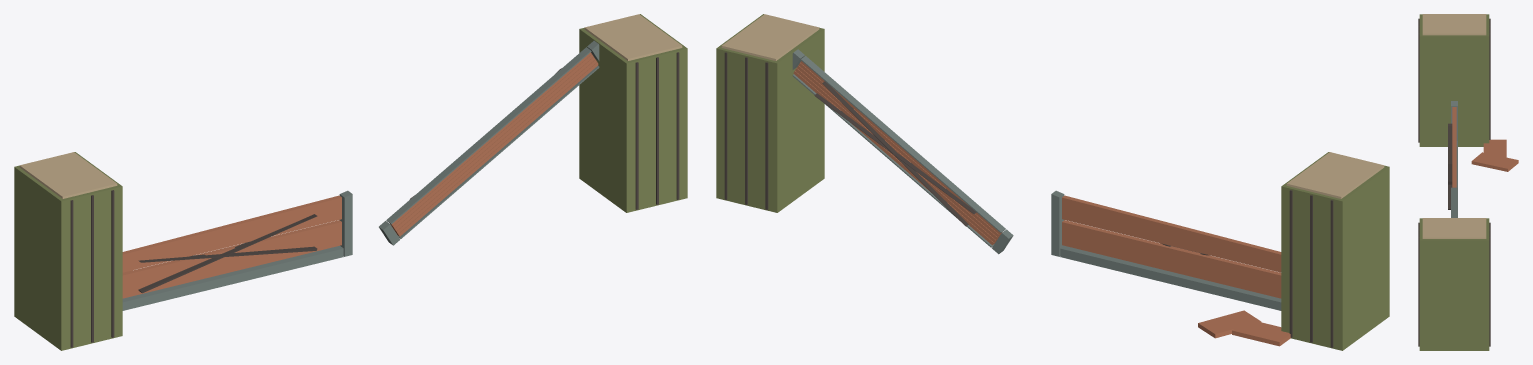
The model's file is SM_PuertaViaDoble_v2_Tablones_e2_MuyDanado_LOD0.fbx.
The picture shows the model from 3 angles, left to right: view 1: azimuth 30°, elevation 25°; view 2: azimuth 150°, elevation 25°; view 3: azimuth 270°, elevation 25°; orthographic projection. The views are drawn at different scales.
Visible parts, largest first — view 1: SM_puerta_via_doble_v10_LOD0, Hoja_O, Hoja_E; view 2: SM_puerta_via_doble_v10_LOD0, Hoja_O, Hoja_E; view 3: SM_puerta_via_doble_v10_LOD0, Hoja_O.
Boxes of the visible parts, <box> form: SM_puerta_via_doble_v10_LOD0: <box>14,14,687,350</box>; Hoja_O: <box>122,190,352,310</box>; Hoja_E: <box>379,40,599,245</box>; SM_puerta_via_doble_v10_LOD0: <box>716,14,1389,350</box>; Hoja_O: <box>1051,190,1281,310</box>; Hoja_E: <box>792,49,1013,254</box>; SM_puerta_via_doble_v10_LOD0: <box>1418,14,1518,350</box>; Hoja_O: <box>1448,101,1457,217</box>.
Size of the model in its own units: 9.2 by 2.16 by 1.72.
